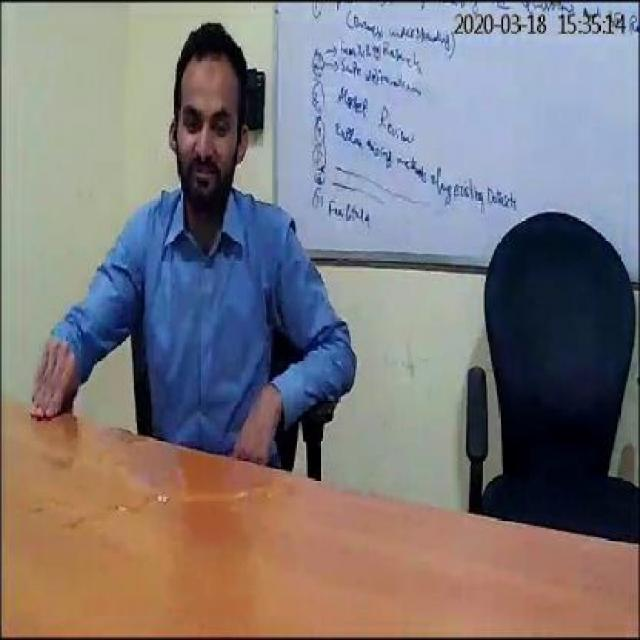spill: (63, 429, 331, 526)
